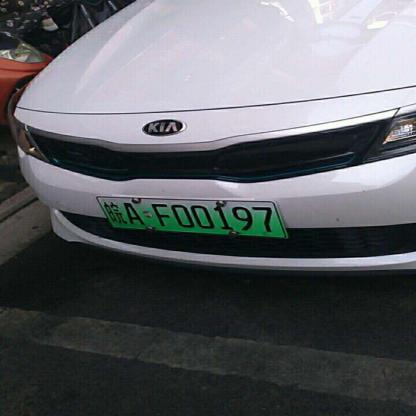lp: (97, 197, 284, 236)
